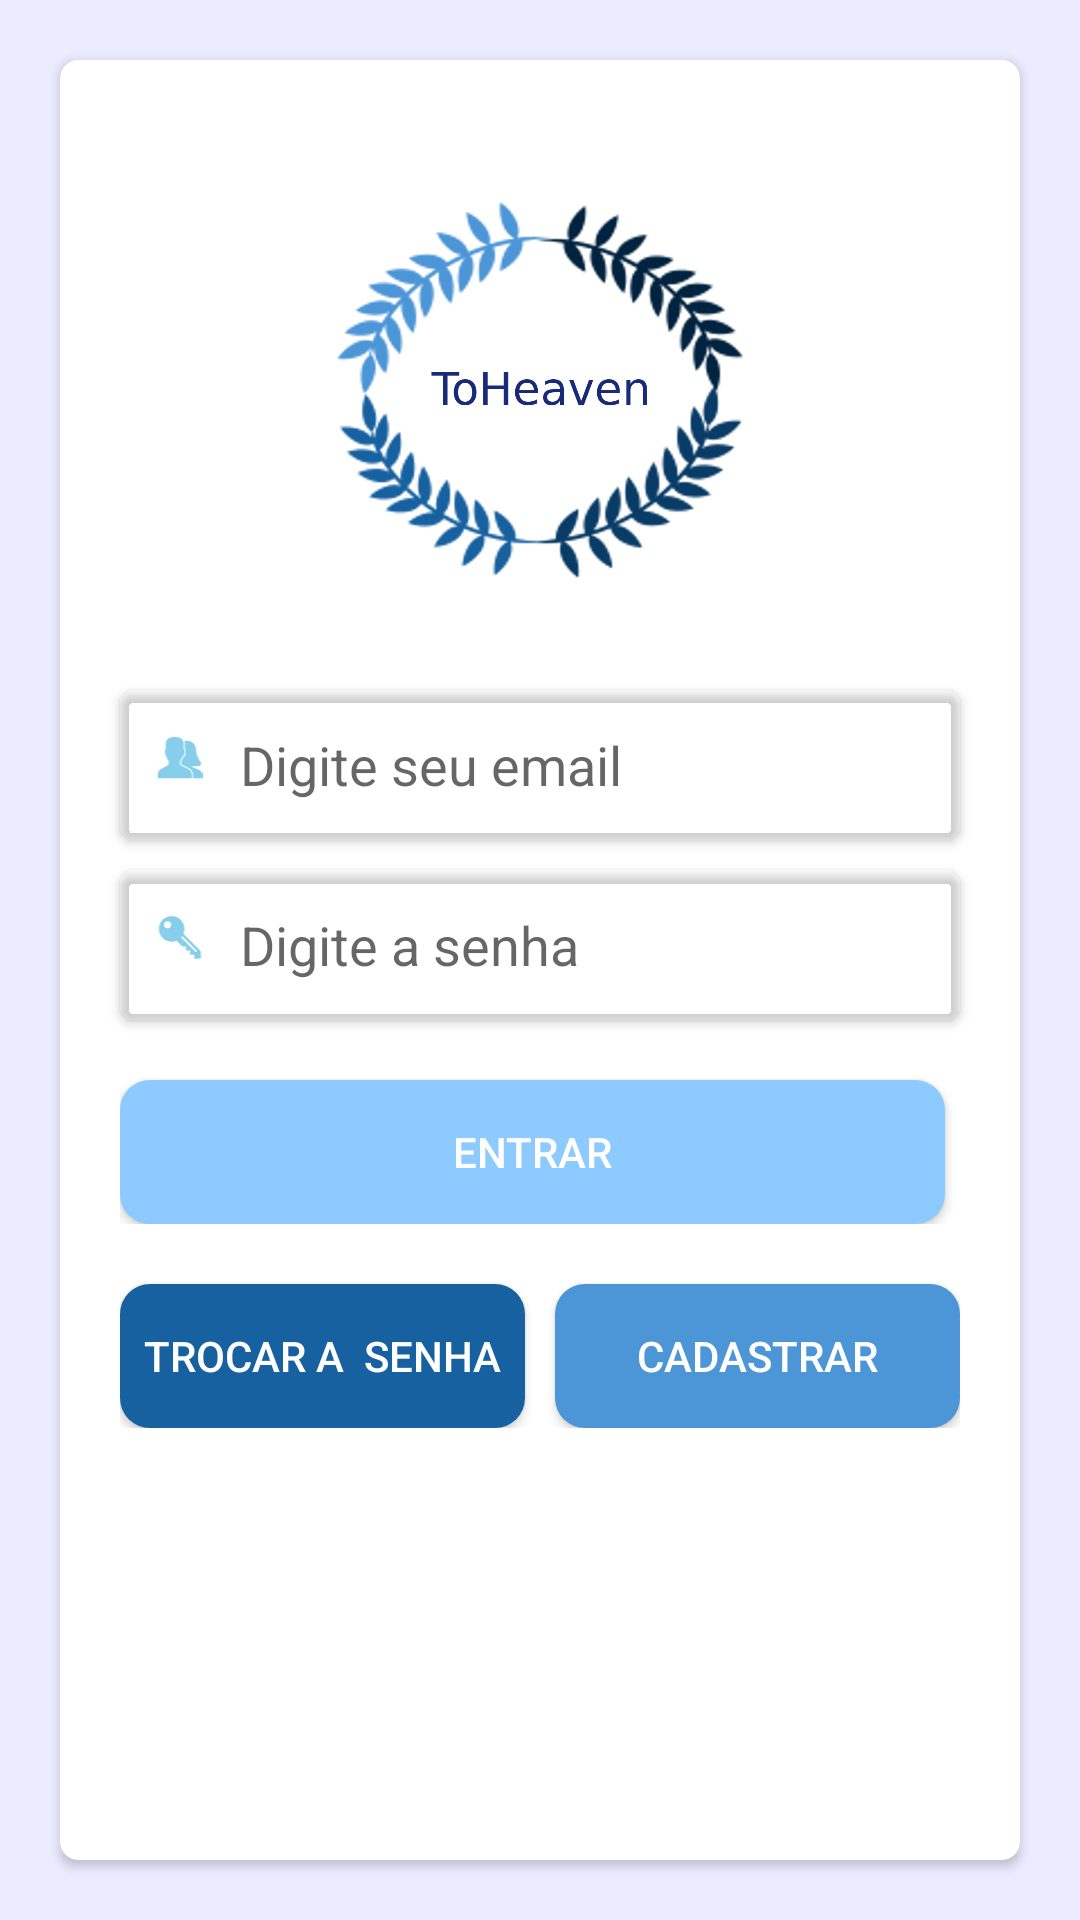

Screen size 1080px x 1920px. Icon name, then its center in pixels as (x=x, y=y):
pass: (x=180, y=937)
user: (x=180, y=758)
